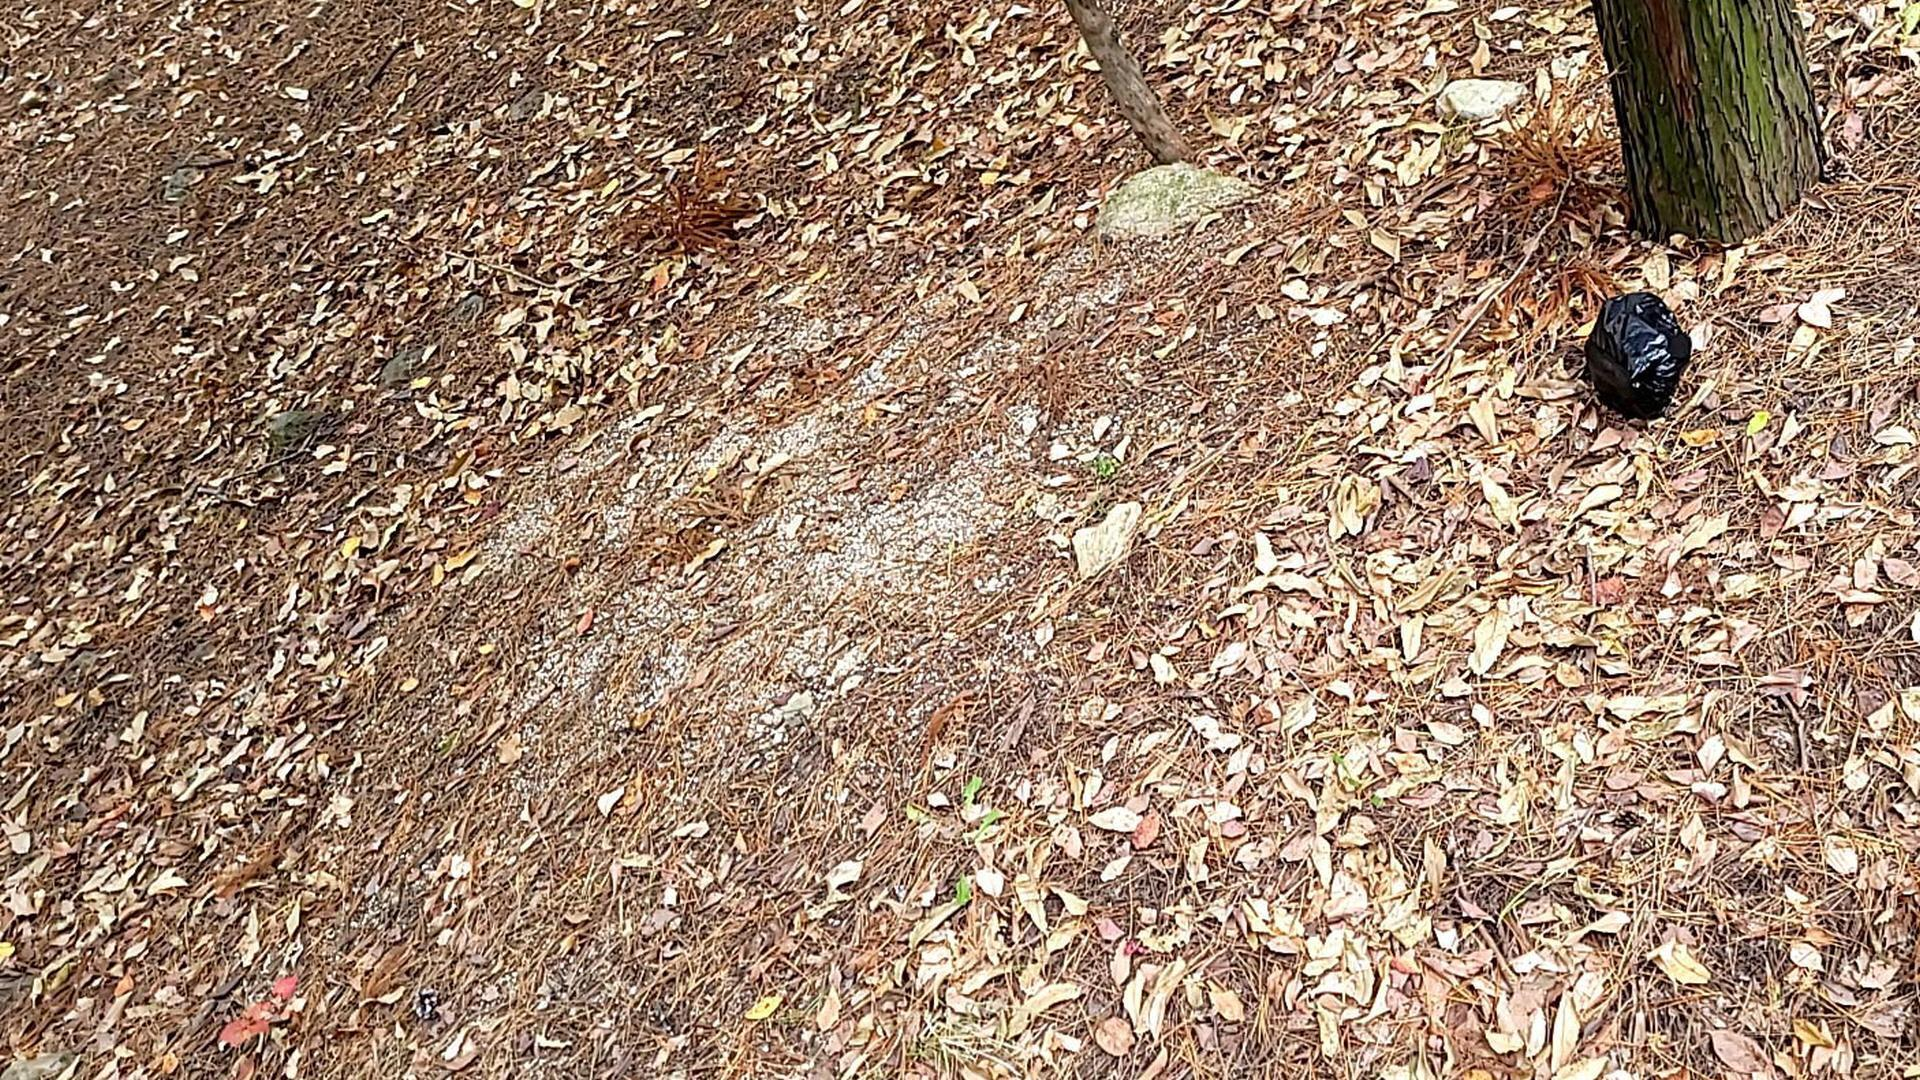black_bag: (1580, 290, 1695, 427)
